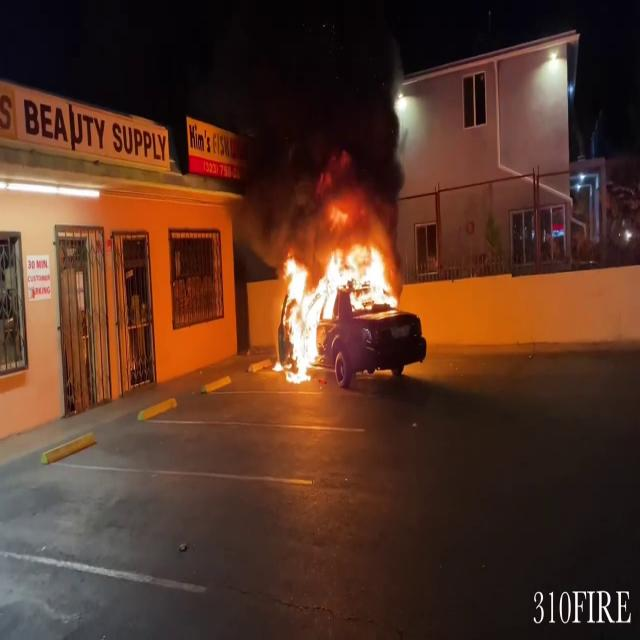Fire: (271, 222, 408, 382)
Smoke: (224, 0, 412, 238)
